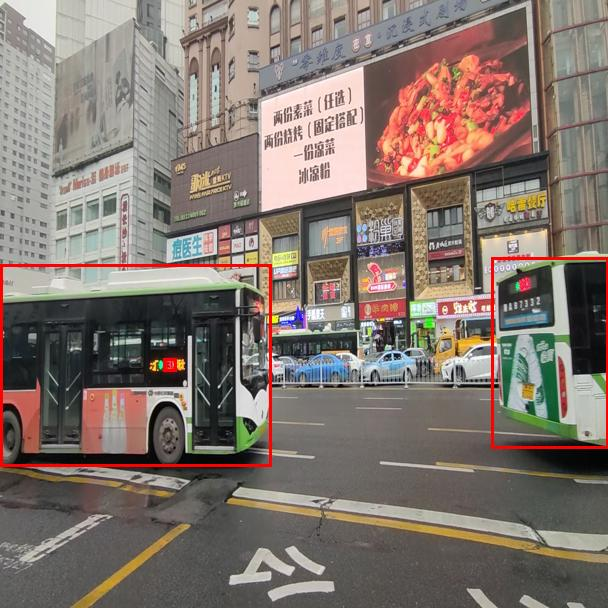bus: (0, 264, 271, 466), (491, 257, 608, 448)
screen: (163, 358, 176, 371)
